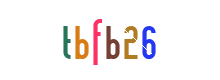2: (70, 0, 150, 80)
6: (108, 0, 188, 80)
B: (56, 0, 136, 80), (65, 0, 145, 80)
F: (57, 0, 137, 80)
T: (54, 0, 134, 80)
